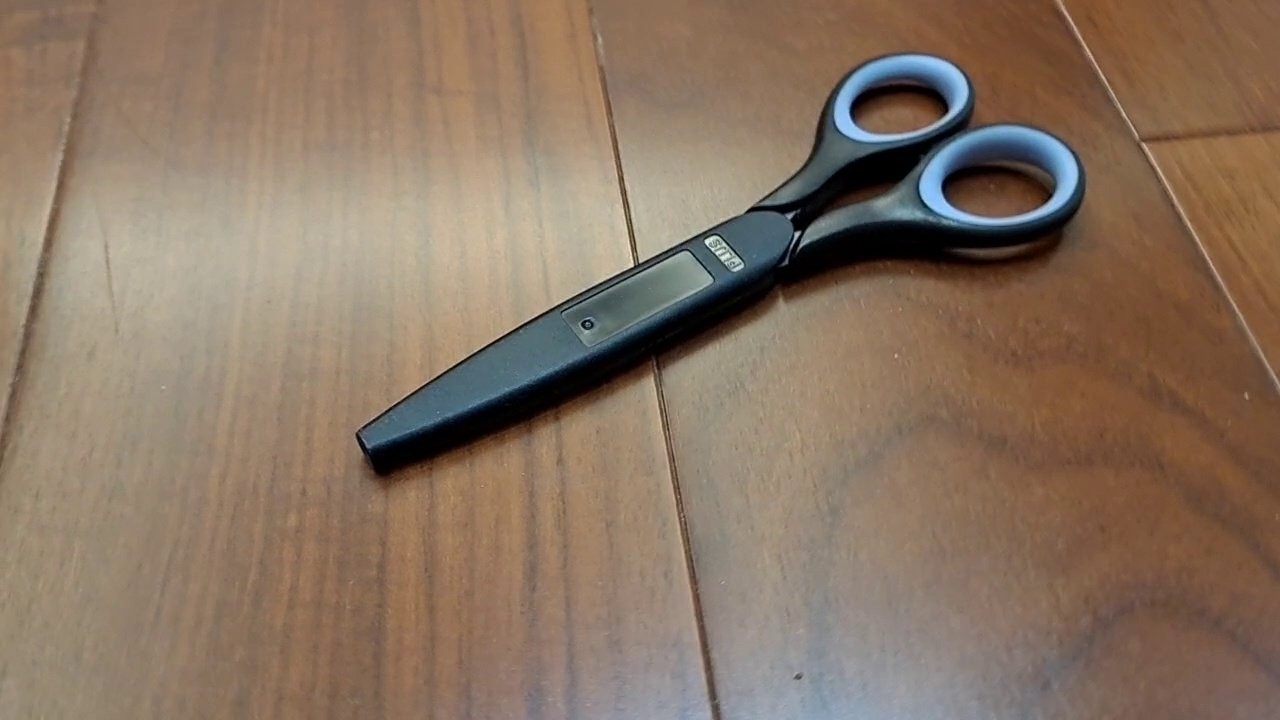scissors: (354, 48, 1088, 478)
